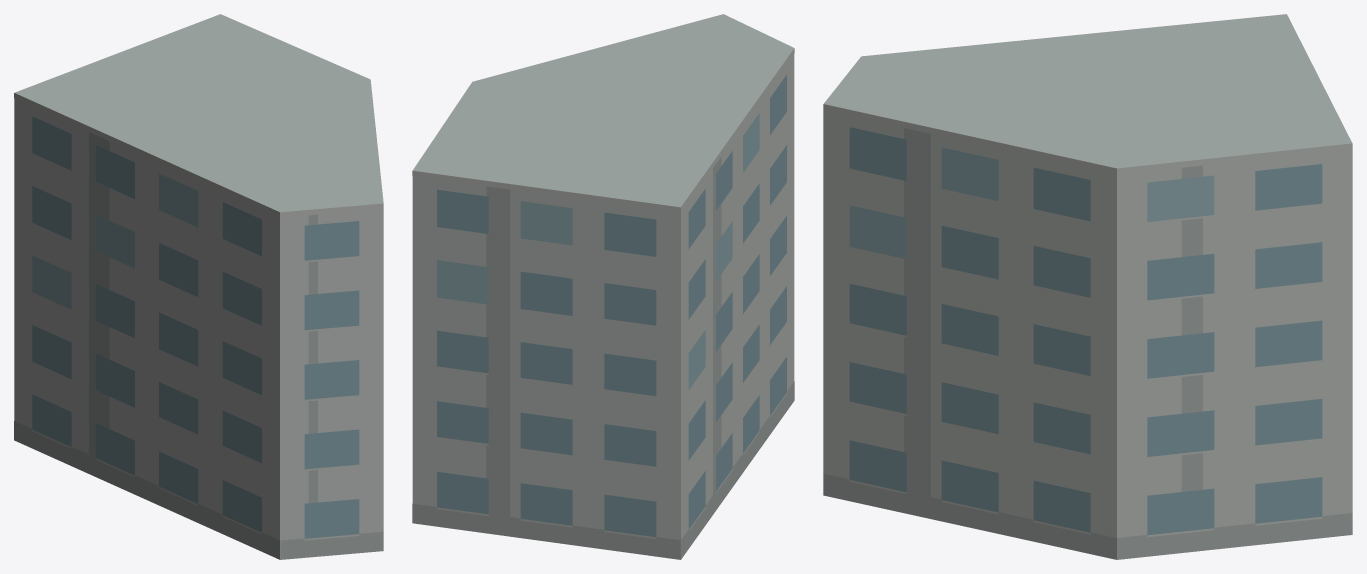
Rendered from residential-2f21a3a4-d8f6-4fa0-99da-4e5c8c7193a4.glb.
3 renders of one model, left to right at view 1: azimuth 30°, elevation 25°; view 2: azimuth 150°, elevation 25°; view 3: azimuth 270°, elevation 25°, orthographic. The views are drawn at different scales.
Parts seen in each view (by area): view 1: residential-2f21a3a4-d8f6-4fa0-99da-4e5c8c7193a4.tmp; view 2: residential-2f21a3a4-d8f6-4fa0-99da-4e5c8c7193a4.tmp; view 3: residential-2f21a3a4-d8f6-4fa0-99da-4e5c8c7193a4.tmp.
Part boxes in pixels (left/top/right/bottom): residential-2f21a3a4-d8f6-4fa0-99da-4e5c8c7193a4.tmp: left=14, top=14, right=383, bottom=559; residential-2f21a3a4-d8f6-4fa0-99da-4e5c8c7193a4.tmp: left=412, top=14, right=794, bottom=559; residential-2f21a3a4-d8f6-4fa0-99da-4e5c8c7193a4.tmp: left=823, top=14, right=1352, bottom=559.
Bounding box in the file's own units: 12.91 × 15.25 × 18.69.
